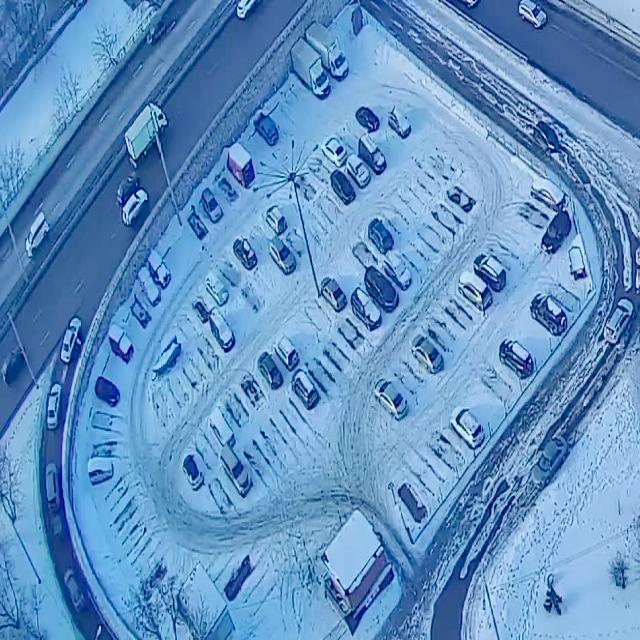car: (122, 93, 170, 169), (304, 19, 350, 85), (290, 36, 332, 103), (531, 433, 570, 492), (362, 262, 400, 316), (529, 290, 569, 340), (218, 443, 253, 498), (496, 338, 535, 384), (457, 268, 493, 316), (374, 376, 409, 424), (450, 403, 485, 451), (472, 249, 507, 296), (602, 298, 634, 348), (539, 208, 572, 256), (410, 332, 444, 378), (350, 286, 383, 332), (383, 244, 413, 294), (120, 188, 152, 234), (226, 141, 256, 190), (290, 364, 319, 414), (60, 311, 84, 371), (530, 175, 566, 214), (1, 338, 26, 394), (358, 130, 387, 178), (62, 567, 88, 620), (367, 213, 395, 260), (208, 308, 236, 355), (268, 235, 297, 279), (318, 273, 348, 315), (25, 211, 49, 261), (146, 248, 172, 294), (108, 323, 135, 367), (273, 330, 299, 375), (209, 406, 235, 451), (257, 351, 284, 394), (138, 263, 162, 311), (115, 167, 140, 213), (329, 167, 357, 208), (250, 110, 280, 148), (203, 269, 230, 311), (87, 452, 115, 490), (93, 374, 121, 412), (232, 234, 258, 273), (200, 185, 224, 227), (45, 381, 63, 437), (44, 464, 62, 520), (320, 132, 348, 168), (180, 450, 204, 492), (346, 153, 372, 191), (263, 200, 289, 237), (354, 102, 381, 137), (388, 104, 412, 141)
